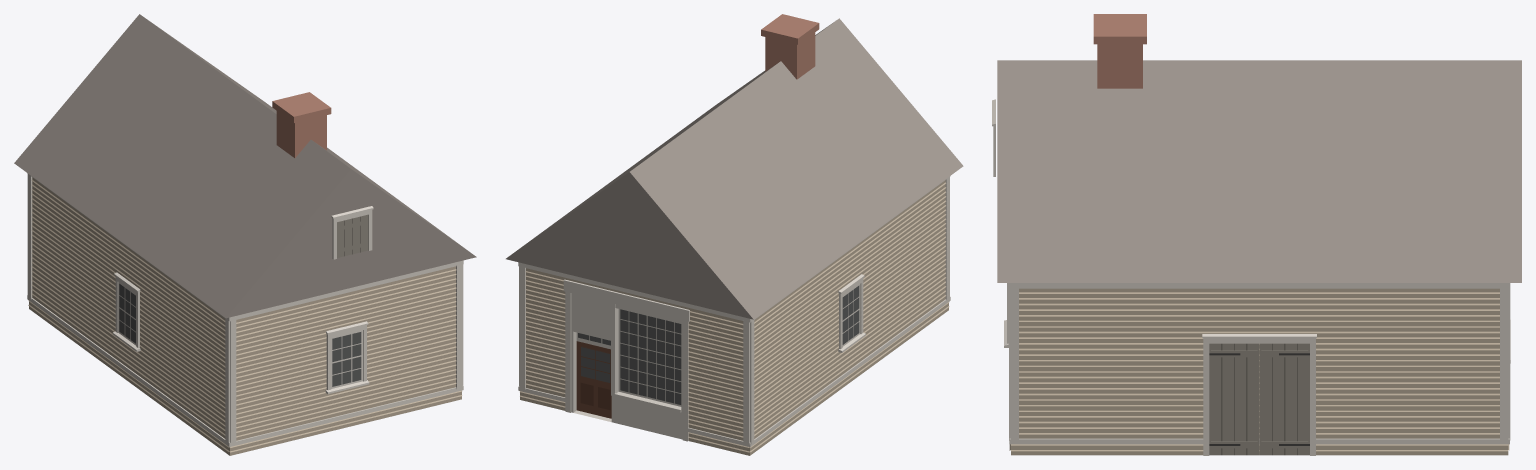
The model's file is inf_grocery_west__inferred_1835.glb.
The picture shows the model from 3 angles, left to right: view 1: azimuth 30°, elevation 25°; view 2: azimuth 150°, elevation 25°; view 3: azimuth 270°, elevation 25°; orthographic projection. The views are drawn at different scales.
Parts seen in each view (by area): view 1: inf_grocery_west__inferred_1835; view 2: inf_grocery_west__inferred_1835; view 3: inf_grocery_west__inferred_1835.
Part boxes in pixels (box(x1,y1,x2,y2)): inf_grocery_west__inferred_1835: box(14, 14, 476, 455); inf_grocery_west__inferred_1835: box(506, 14, 963, 455); inf_grocery_west__inferred_1835: box(992, 14, 1521, 455).
Bounding box in the file's own units: 6.6 × 7.3 × 9.74.
